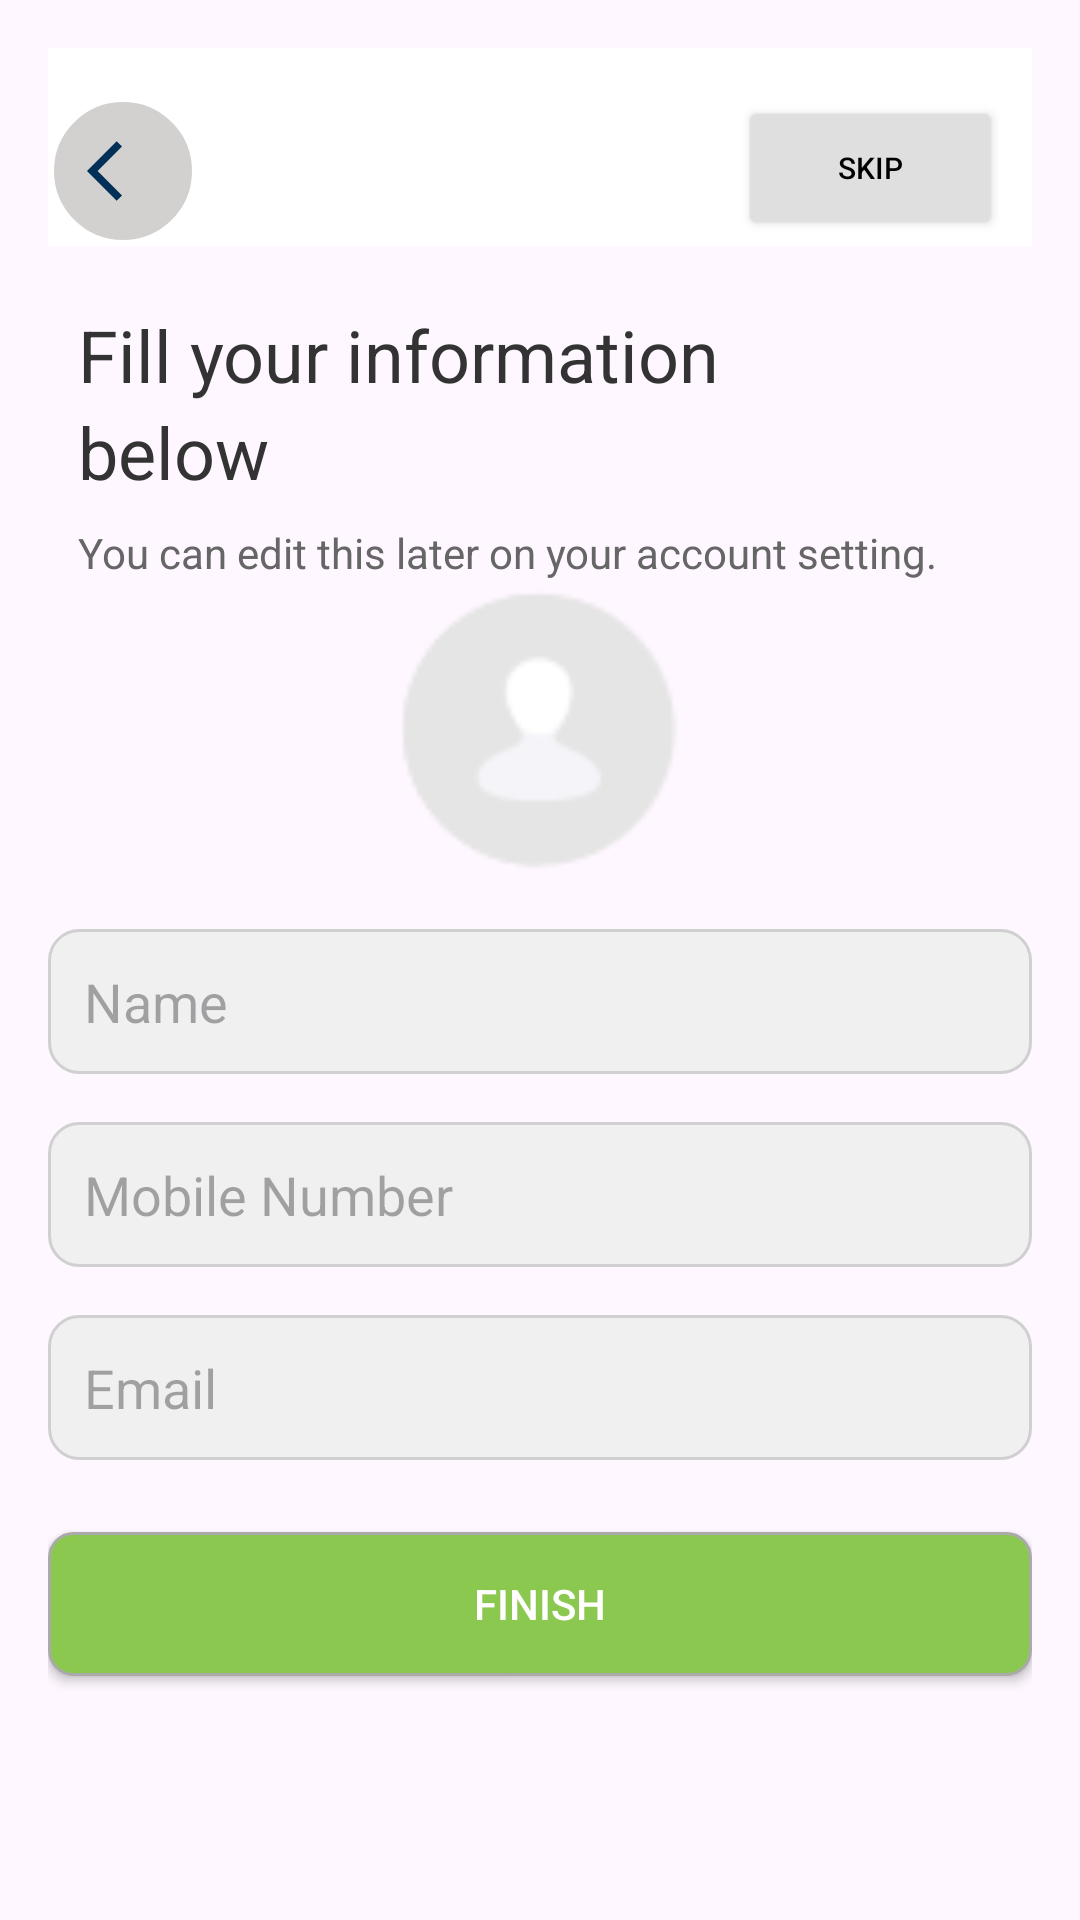

Locate icon controls on the screen. Image size 1080×1920, boxes as Rect(x1, y1, x2, y2).
arrow back: Rect(54, 102, 192, 240)
user image: Rect(405, 596, 671, 862)
